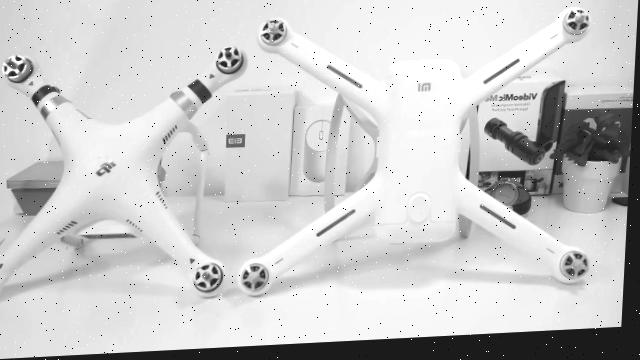drone: (239, 0, 640, 312)
